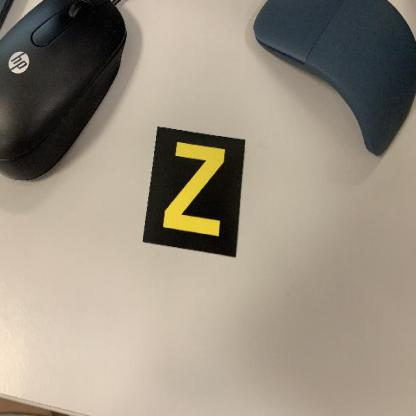z: (141, 125, 247, 260)
